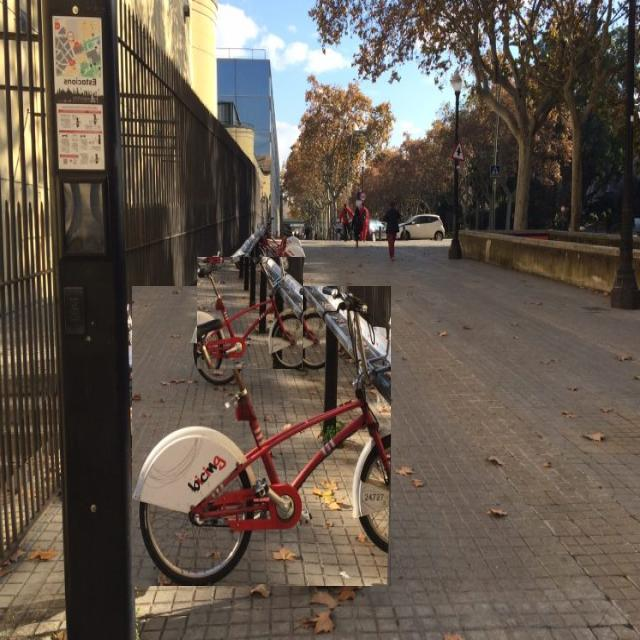bicycle: (132, 287, 390, 586), (197, 257, 302, 369)
